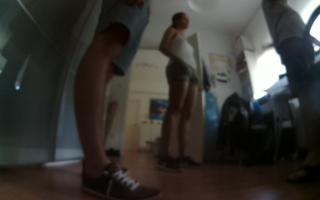person: (67, 1, 161, 200), (256, 1, 320, 189), (154, 10, 206, 174)
